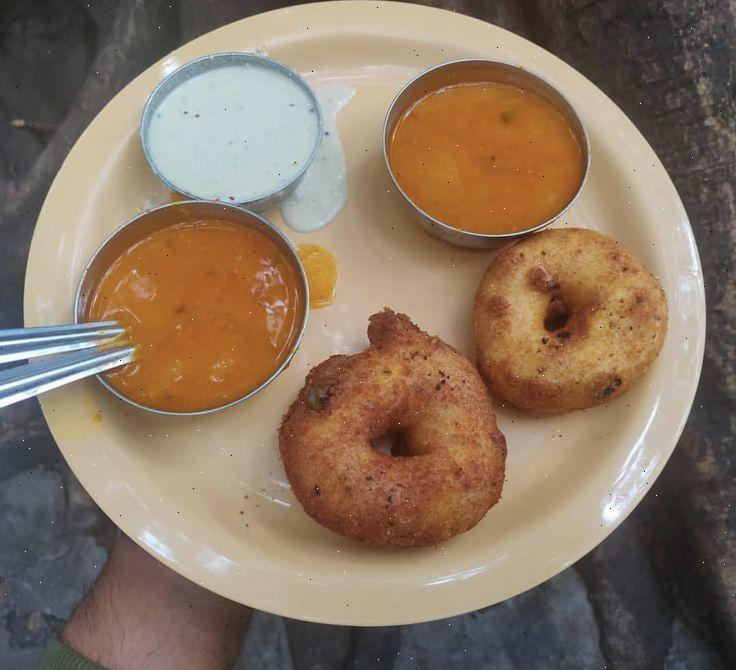coconut chutney: (140, 78, 318, 198)
medu vada: (291, 328, 498, 551), (468, 239, 672, 416)
sambhar: (99, 216, 291, 416), (368, 87, 581, 230)
